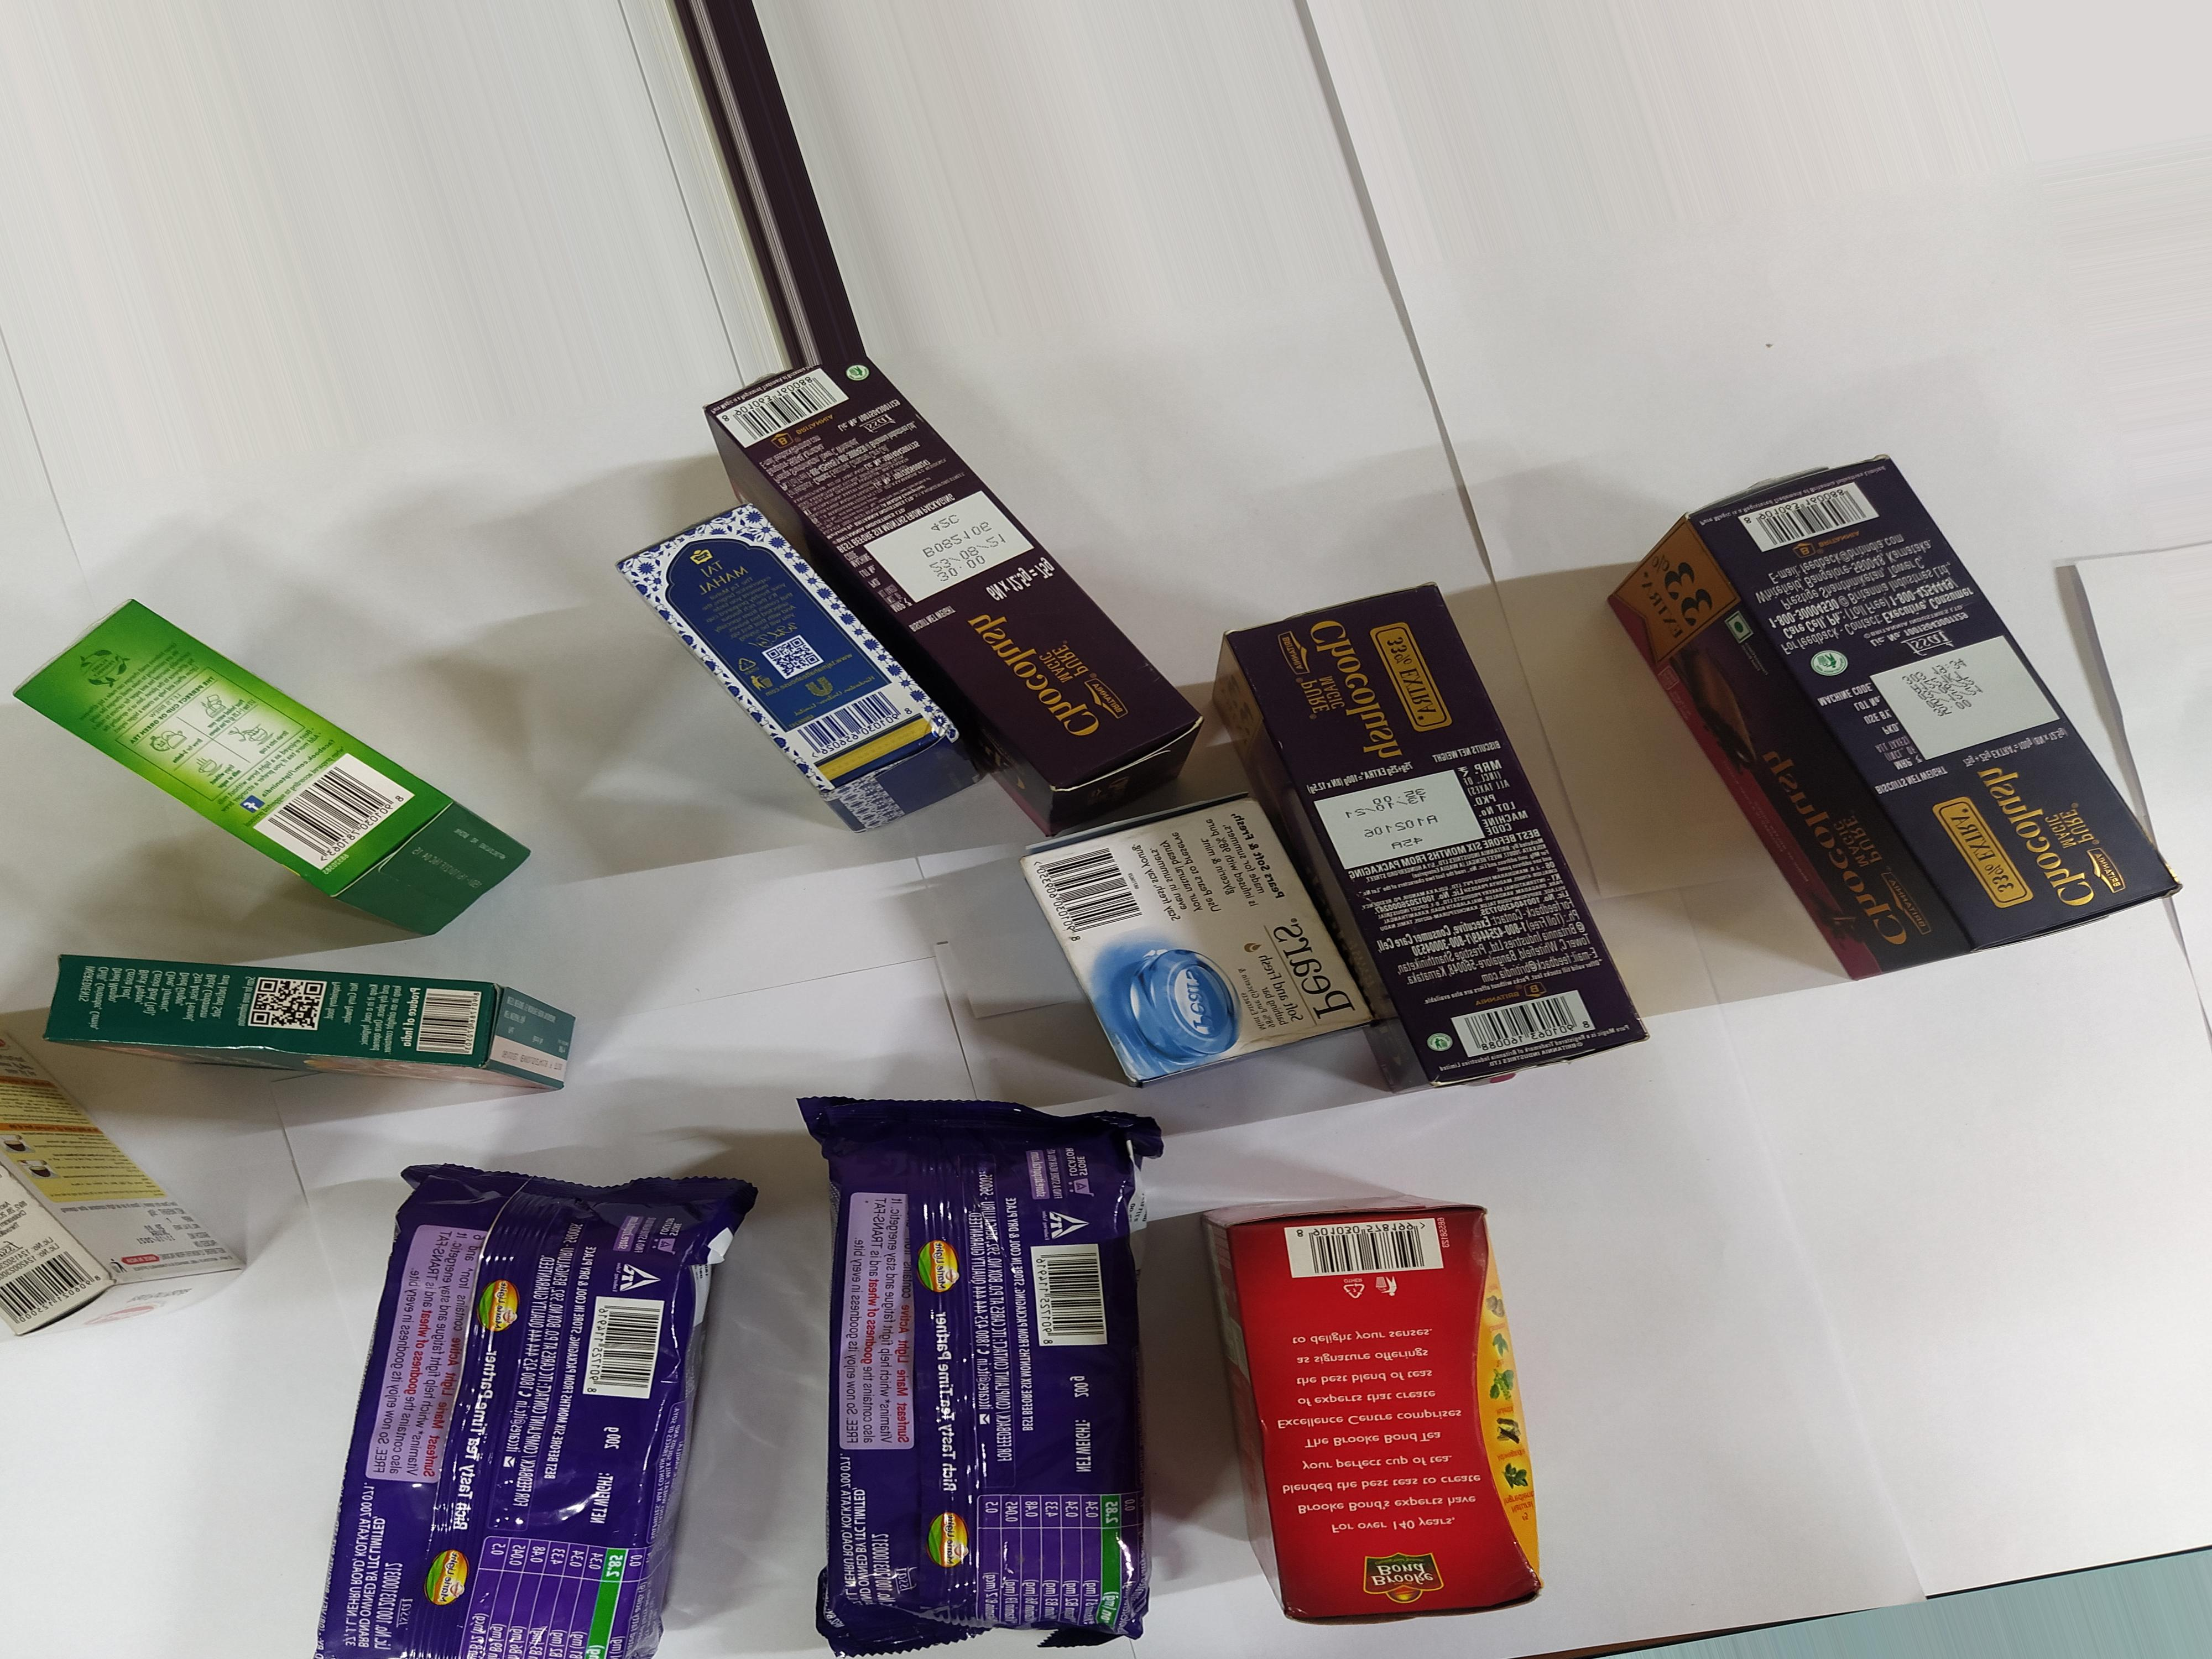Bar_code: (697, 349, 869, 455), (1426, 985, 1627, 1070), (1728, 467, 1900, 559), (1026, 842, 1157, 950), (1017, 1232, 1118, 1368), (1280, 1208, 1460, 1279), (580, 1293, 669, 1420), (0, 1241, 106, 1347), (768, 697, 923, 755), (399, 972, 491, 1065)
Item: (1639, 437, 2191, 1054), (1211, 563, 1676, 1101), (775, 1066, 1195, 1659), (12, 582, 587, 972), (361, 1131, 747, 1659), (1174, 1169, 1588, 1650), (599, 507, 974, 850), (998, 793, 1383, 1089), (30, 941, 641, 1121), (0, 1056, 258, 1358)
QR_code: (228, 971, 341, 1042), (754, 633, 833, 687)
